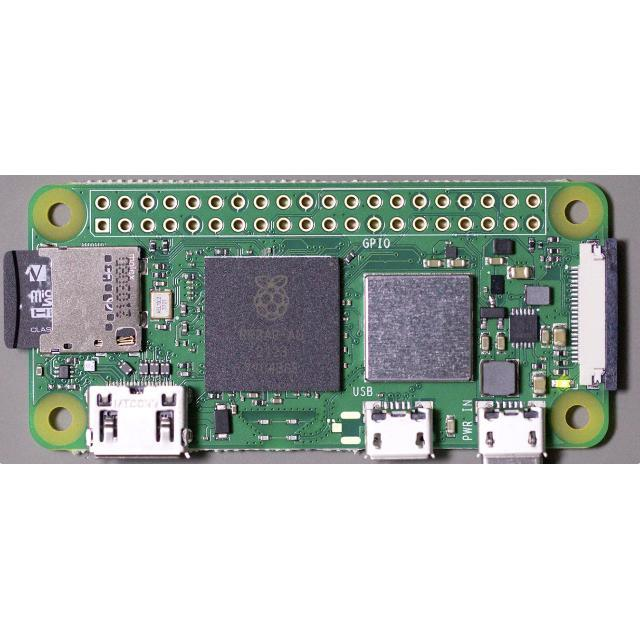Raspberry-Pi-Zero-2-W: (4, 177, 624, 463)
